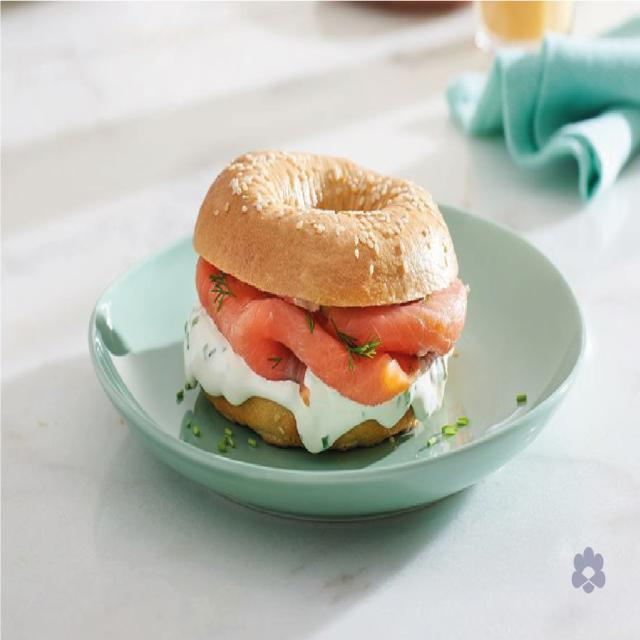Bagel: (194, 151, 459, 311)
